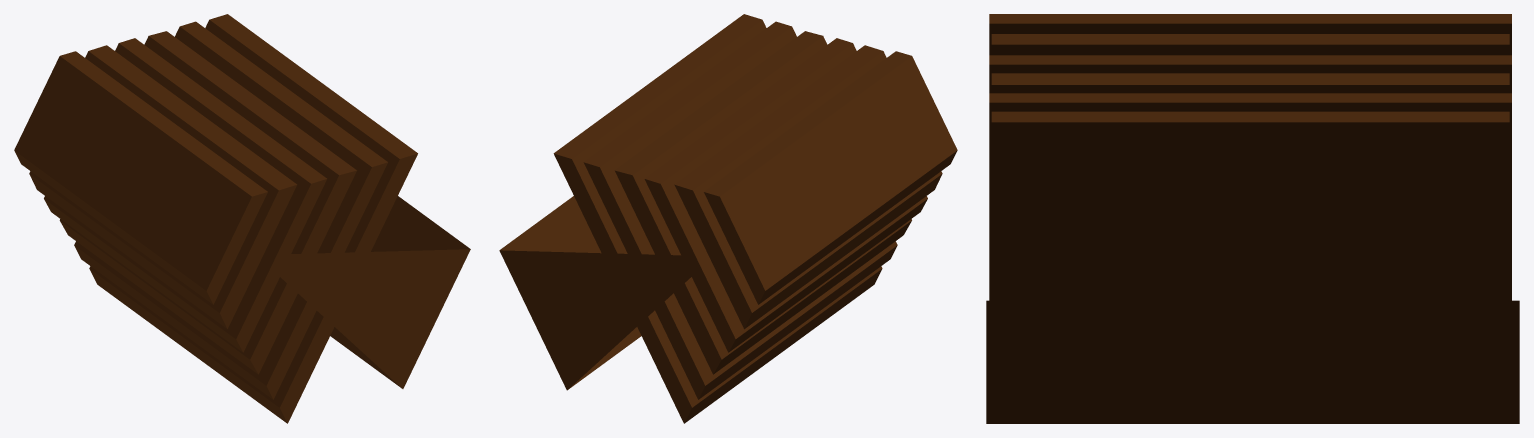
File: chevron_3.obj
3 views of the same model, side by side, from view 1: azimuth 30°, elevation 25°; view 2: azimuth 150°, elevation 25°; view 3: azimuth 270°, elevation 25° (orthographic). The views are drawn at different scales.
Visible parts, largest first — view 1: chevron_3; view 2: chevron_3; view 3: chevron_3.
Boxes of the visible parts, x1,y1,x2,y2 form: chevron_3: (14,14,470,423); chevron_3: (499,14,957,423); chevron_3: (986,14,1519,423).
Bounding box in the file's own units: 0.2747 × 0.238 × 0.3548.
